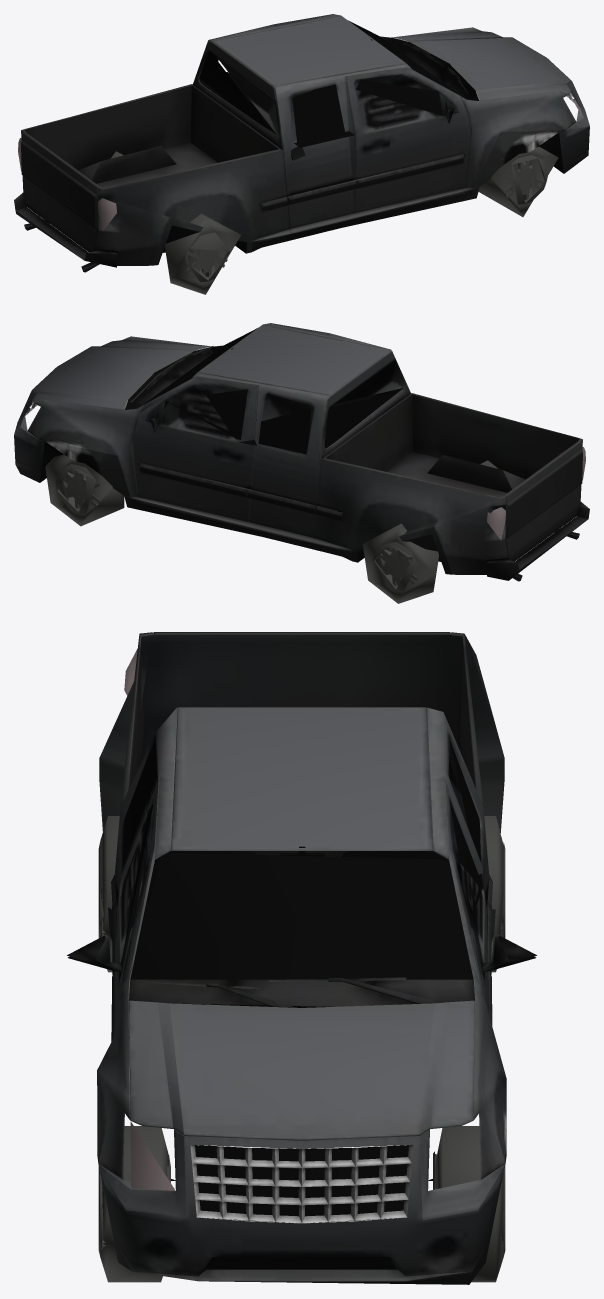
File: pc-pickup-grey.lod1.glb
3 views of the same model, one above another, from view 1: azimuth 30°, elevation 25°; view 2: azimuth 150°, elevation 25°; view 3: azimuth 270°, elevation 25° (orthographic). The views are drawn at different scales.
Visible parts, largest first — view 1: Pickup Body_Body_0, Wheel_E_Wheel_0; view 2: Pickup Body_Body_0, Wheel_E_Wheel_0; view 3: Pickup Body_Body_0, Wheel_E_Wheel_0.
Part boxes in pixels (x1,y1,x2,y2): Pickup Body_Body_0: (14,14,589,272); Wheel_E_Wheel_0: (18,20,582,294); Pickup Body_Body_0: (14,323,589,581); Wheel_E_Wheel_0: (45,328,585,603); Pickup Body_Body_0: (67,632,536,1284); Wheel_E_Wheel_0: (98,649,505,1282).
Bounding box in the file's own units: 5.15 × 1.68 × 2.05.
2 materials, 1 textured.
